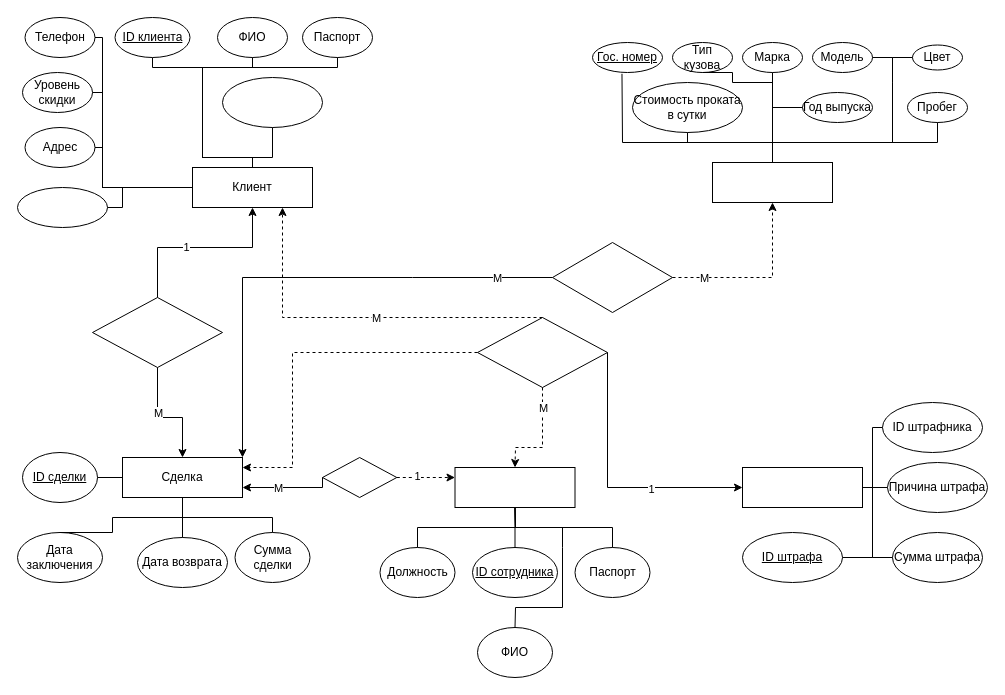
This 1005x695 diagram has some shape labels left out. The shapes that lost their labels are listed below. From the top down, each one's centre as x and y in pixels, then its label:
At point 272,102: "Статус постоянного клиента".
At point 772,182: "Автомобиль".
At point 62,207: "Общая сумма штрафа".
At point 612,277: "Добавление в сделку".
At point 157,332: "Заключение сделки".
At point 542,352: "Наложение штрафа".
At point 359,477: "Заключил сделку".
At point 514,487: "Сотрудник".
At point 802,487: "Штраф".
